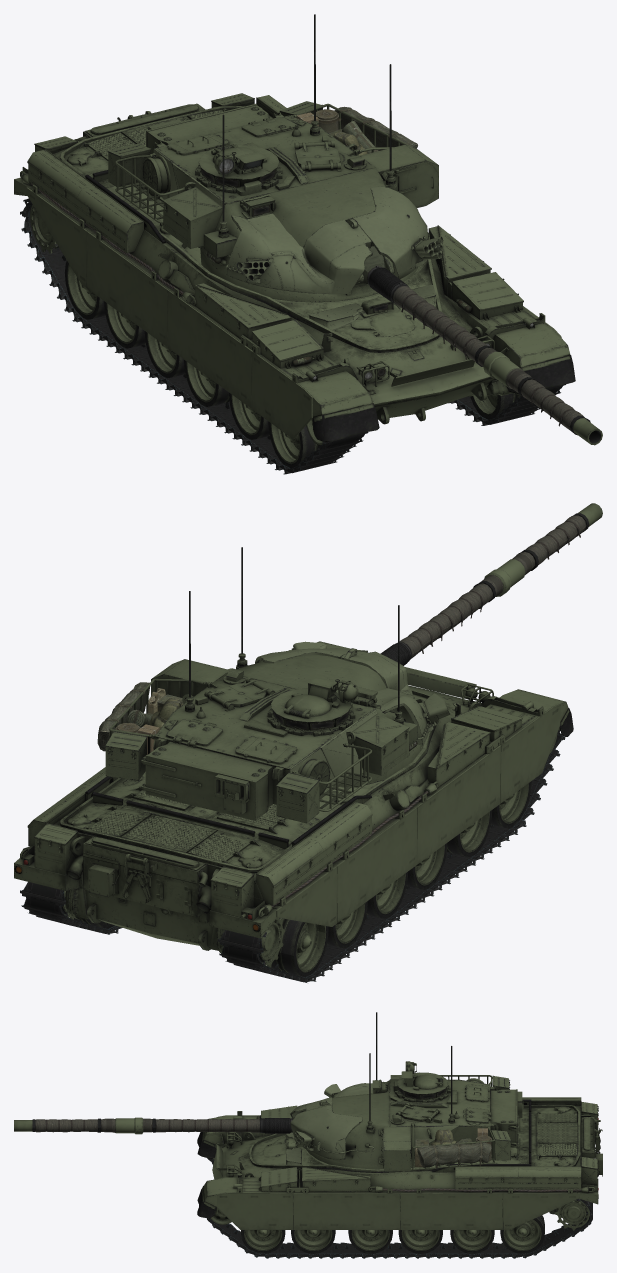
Rendered from chieftain_mk5.glb.
3 views of the same model, one above another, from view 1: azimuth 30°, elevation 25°; view 2: azimuth 150°, elevation 25°; view 3: azimuth 270°, elevation 25° (orthographic). The views are drawn at different scales.
Parts seen in each view (by area): view 1: Object_4, Object_2, Object_3, Object_6, Object_10, Object_5, Object_12, Object_7, Object_11, Object_8, Object_9; view 2: Object_4, Object_2, Object_3, Object_10, Object_6, Object_5, Object_12, Object_11, Object_7, Object_9; view 3: Object_4, Object_2, Object_3, Object_11, Object_5, Object_10, Object_6, Object_7, Object_9.
Part boxes in pixels (x1=…): Object_4: x1=14, y1=93, x2=575, y2=441; Object_2: x1=107, y1=101, x2=438, y2=302; Object_3: x1=26, y1=184, x2=561, y2=439; Object_6: x1=153, y1=148, x2=443, y2=330; Object_10: x1=20, y1=198, x2=566, y2=474; Object_5: x1=360, y1=246, x2=602, y2=445; Object_12: x1=104, y1=301, x2=521, y2=468; Object_7: x1=30, y1=106, x2=417, y2=294; Object_11: x1=30, y1=204, x2=520, y2=445; Object_8: x1=201, y1=158, x2=533, y2=380; Object_9: x1=222, y1=14, x2=391, y2=221; Object_4: x1=14, y1=641, x2=573, y2=953; Object_2: x1=105, y1=653, x2=421, y2=823; Object_3: x1=276, y1=648, x2=560, y2=926; Object_10: x1=20, y1=730, x2=565, y2=982; Object_6: x1=255, y1=641, x2=449, y2=788; Object_5: x1=380, y1=503, x2=602, y2=665; Object_12: x1=327, y1=781, x2=531, y2=948; Object_11: x1=62, y1=733, x2=557, y2=976; Object_7: x1=97, y1=682, x2=428, y2=907; Object_9: x1=189, y1=547, x2=399, y2=711; Object_4: x1=197, y1=1097, x2=602, y2=1218; Object_2: x1=301, y1=1061, x2=523, y2=1171; Object_3: x1=217, y1=1111, x2=579, y2=1229; Object_11: x1=213, y1=1158, x2=589, y2=1253; Object_5: x1=14, y1=1117, x2=294, y2=1134; Object_10: x1=207, y1=1158, x2=592, y2=1258; Object_6: x1=286, y1=1079, x2=490, y2=1164; Object_7: x1=383, y1=1128, x2=581, y2=1191; Object_9: x1=369, y1=1012, x2=452, y2=1121.
Bounding box in the file's own units: 154 × 167 × 460.
Materials: 10 (10 with a texture image).
